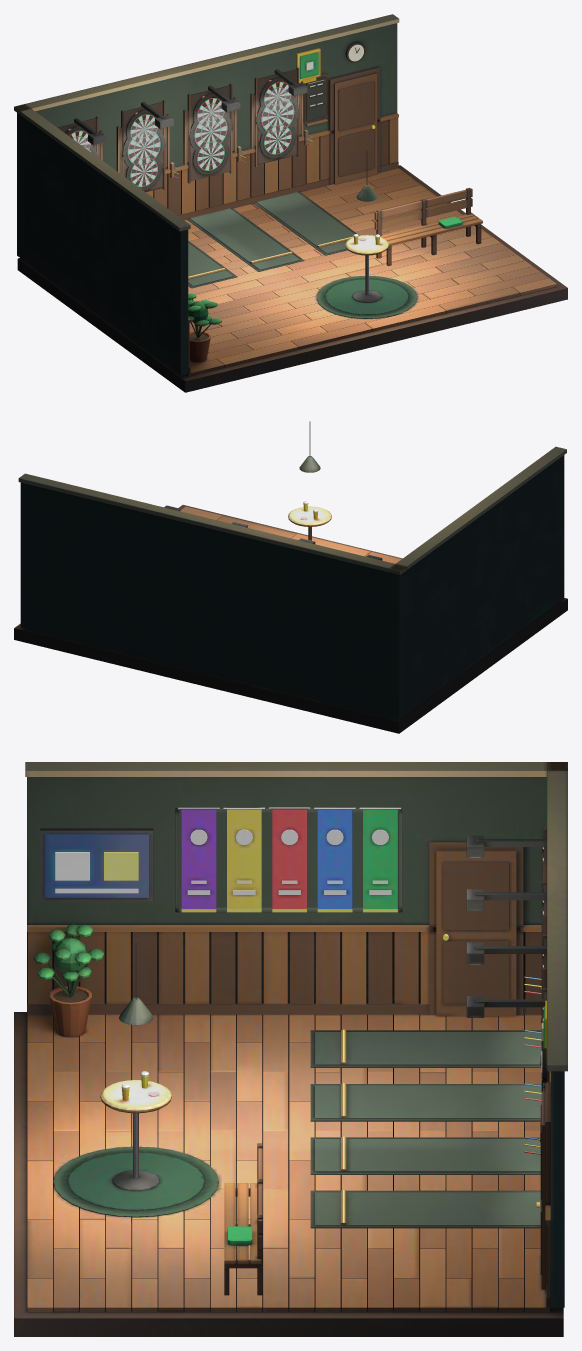
The model's file is raum_scheiben.glb.
3 renders of one model, top to bottom at view 1: azimuth 30°, elevation 25°; view 2: azimuth 150°, elevation 25°; view 3: azimuth 270°, elevation 25°, orthographic. The views are drawn at different scales.
Visible parts, largest first — view 1: huelle, d2, d3, bank, d1, e2, e1, e3, d6, d7, d5, d0 (+1 smaller); view 2: huelle; view 3: huelle, d3, d1, d0, d2, tv, sp1, sp4, bank, sp0, sp2, sp3 (+1 smaller).
Part boxes in pixels (box(x1,y1,x2,y2)): huelle: box(14, 14, 567, 392); d2: box(186, 83, 304, 271); d3: box(253, 67, 359, 255); bank: box(374, 188, 482, 265); d1: box(121, 100, 237, 288); e2: box(183, 96, 245, 164); e1: box(116, 112, 178, 178); e3: box(250, 80, 312, 148); d6: box(187, 129, 232, 183); d7: box(254, 113, 298, 167); d5: box(122, 146, 165, 192); d0: box(57, 116, 106, 157); huelle: box(14, 421, 567, 733); huelle: box(14, 762, 567, 1336); d3: box(310, 988, 546, 1228); d1: box(310, 881, 546, 1121); d0: box(310, 828, 546, 1067); d2: box(310, 934, 546, 1174); tv: box(40, 828, 153, 901); sp1: box(314, 807, 355, 912); sp4: box(178, 807, 219, 912); bank: box(224, 1143, 262, 1295); sp0: box(359, 807, 401, 912); sp2: box(268, 807, 310, 912); sp3: box(223, 807, 265, 912).
Bounding box in the file's own units: 8.35 × 3.38 × 6.35.
1 material, 1 textured.
